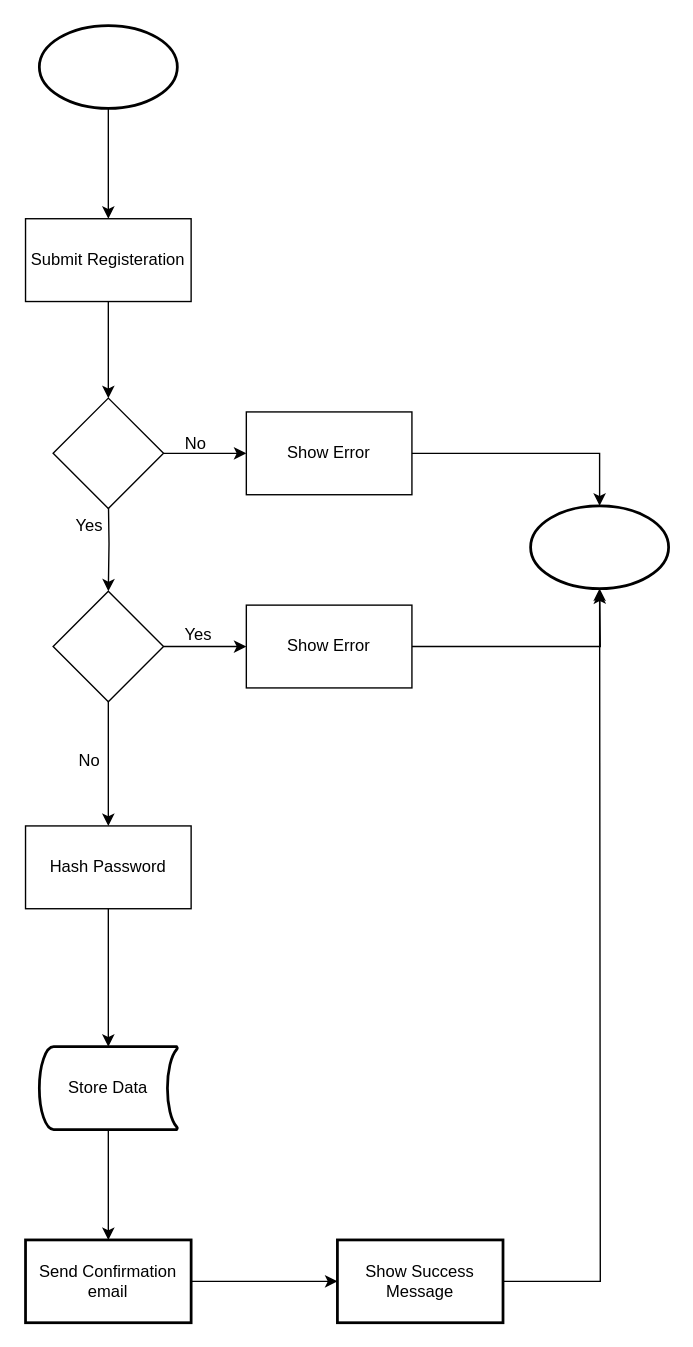
This 693x1347 diagram has some shape labels left out. Here are the shapes that lost their labels. From the top down, the centre of each, then its label:
At [107,66]: "Start".
At [108,453]: "Input Valid?".
At [599,546]: "End".
At [108,646]: "User Exists?".
